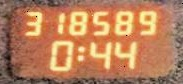0: (48, 39, 73, 71)
1: (55, 11, 64, 34)
3: (23, 11, 41, 36)
4: (88, 41, 112, 69), (113, 41, 136, 69)
5: (91, 11, 109, 35)
8: (113, 10, 133, 35), (68, 10, 86, 35)
9: (138, 9, 157, 34)
X: (75, 45, 84, 60)
